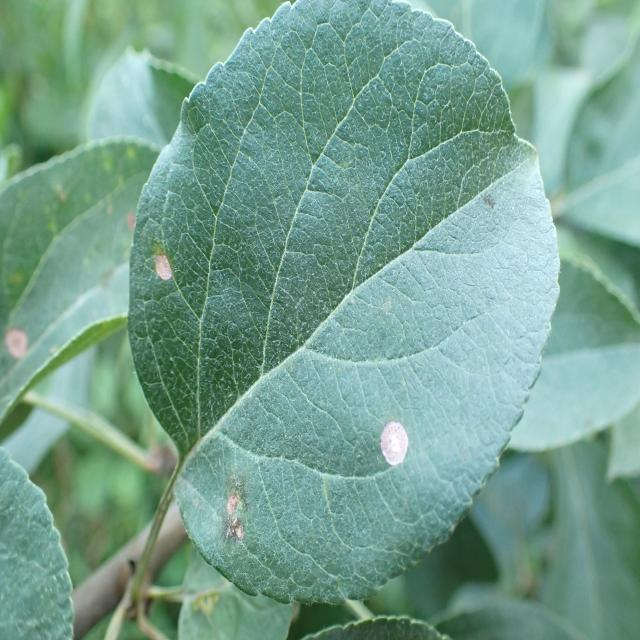frog-eye-leaf-spot: (127, 0, 561, 607)
